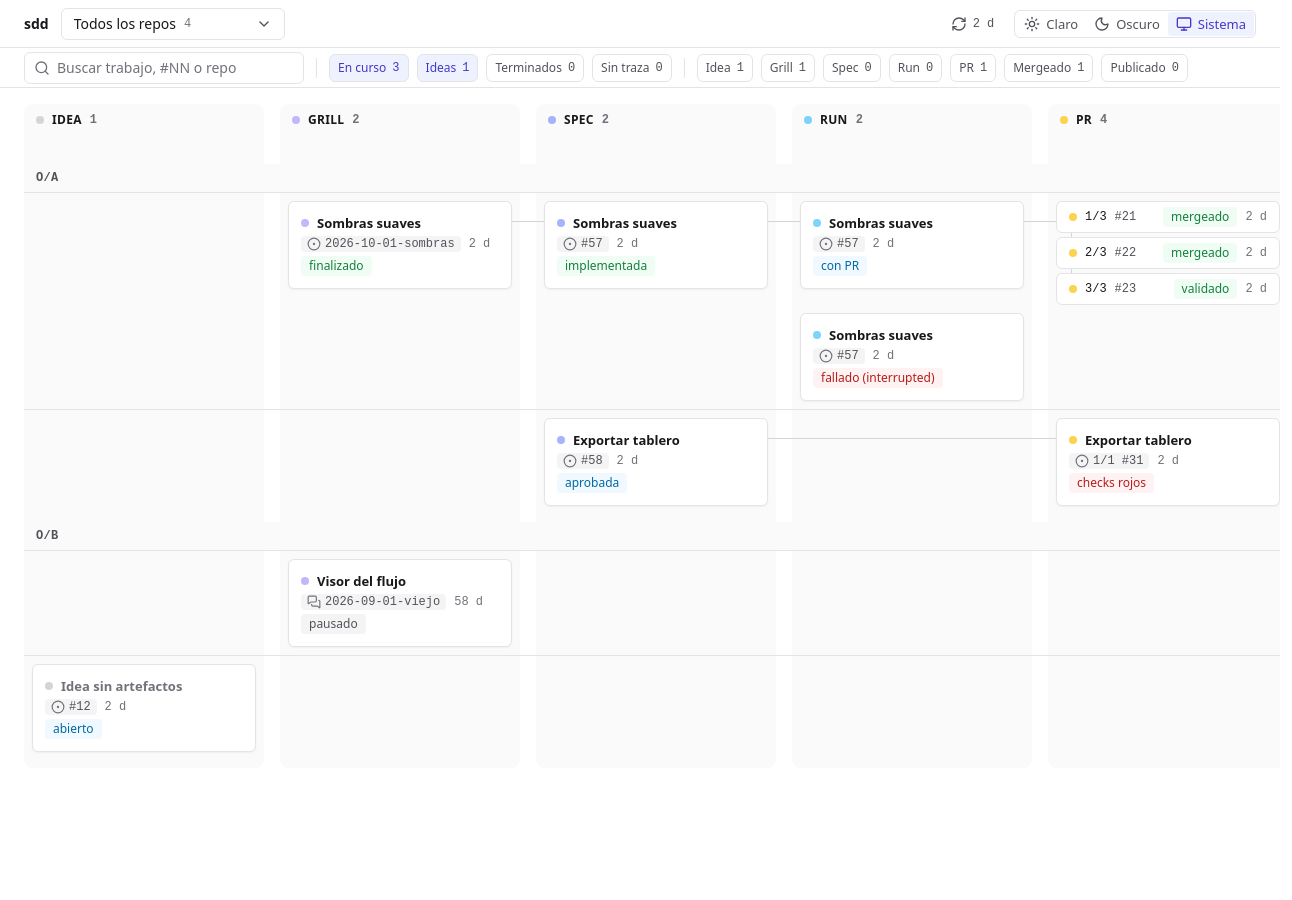
Test: búsqueda › escribir filtra en el cliente y escribe ?q= sin sumar historia; la X la limpia
Type "57" into the search field labelled "Buscar" at (164, 68), box left=24, top=52, right=304, bottom=84
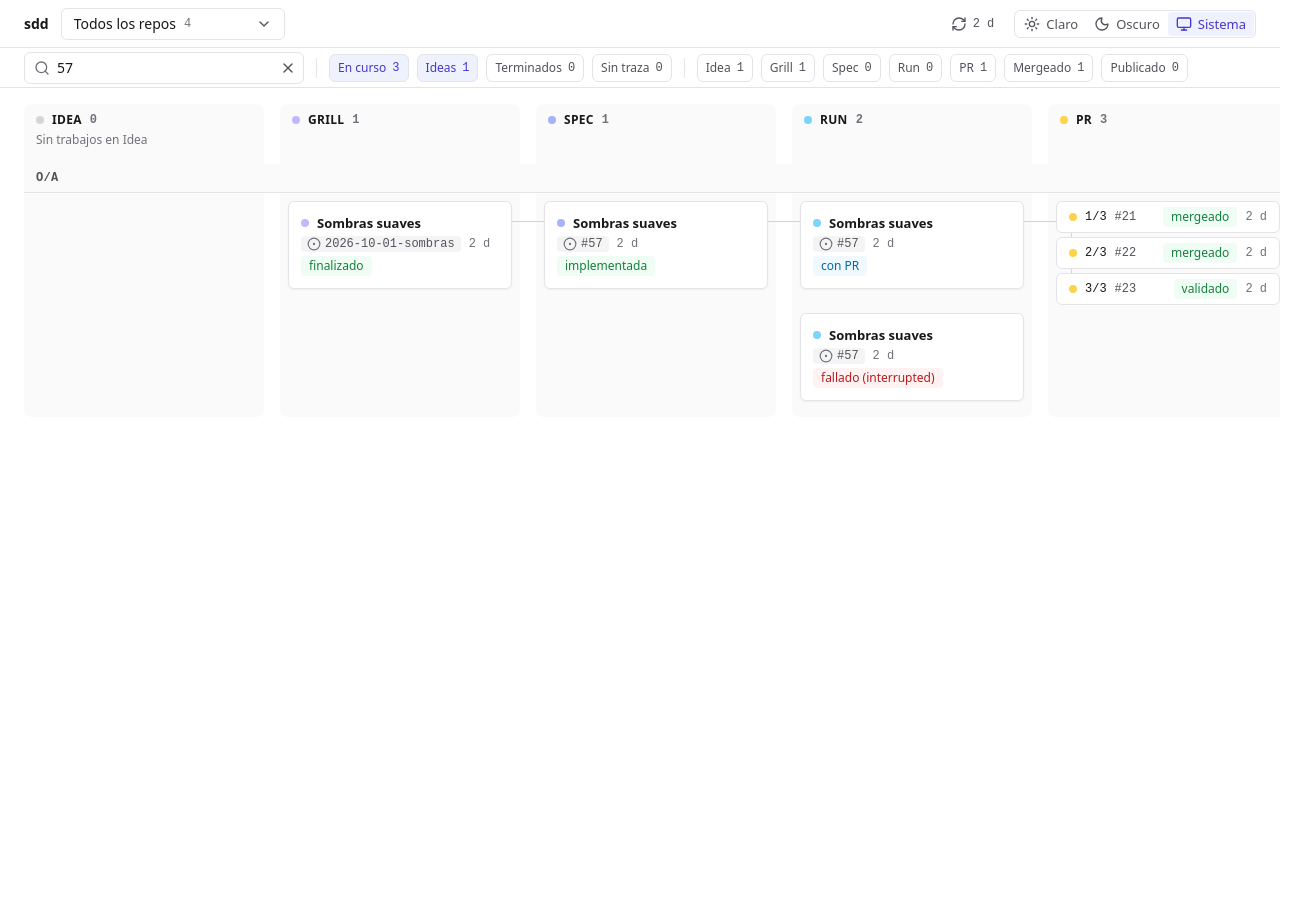
Click the button named "Limpiar búsqueda" at (288, 68), box left=274, top=54, right=302, bottom=82
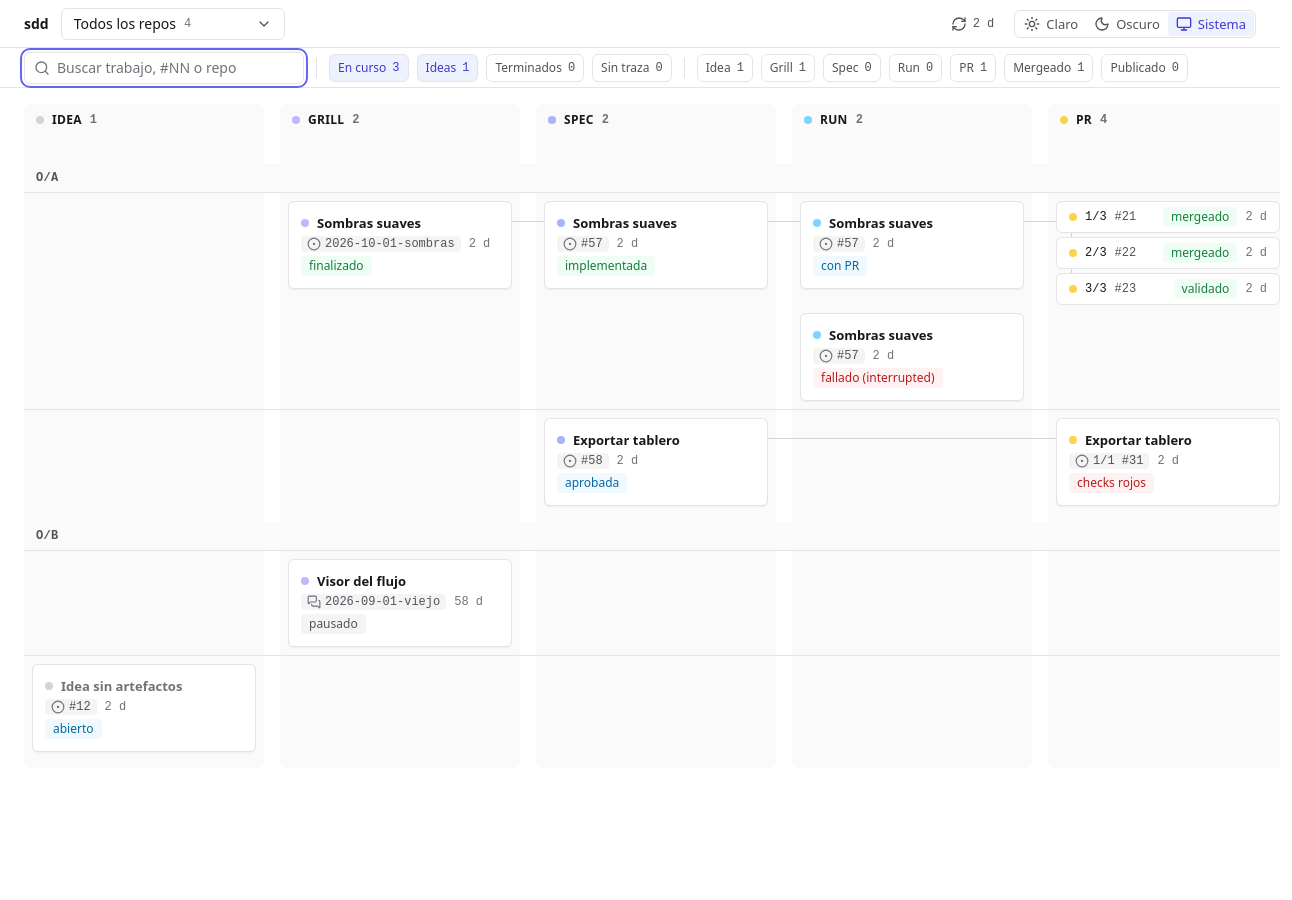
Result: the search field labelled "Buscar" is empty at left=24, top=52, right=304, bottom=84
